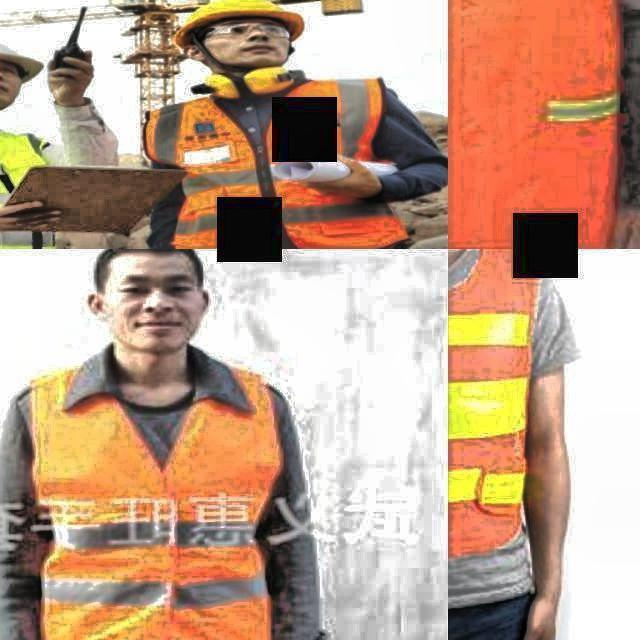safety_jacket: (25, 346, 304, 640), (448, 0, 640, 249), (159, 56, 401, 249), (448, 249, 575, 587), (0, 126, 66, 249)
